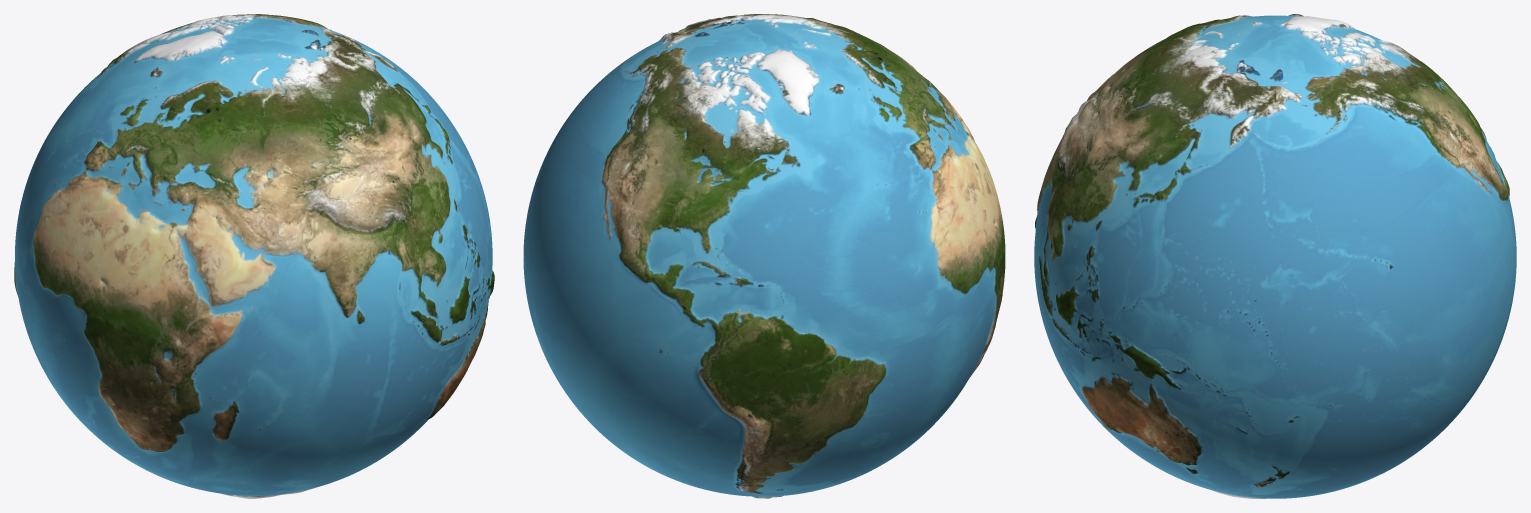
The picture shows the model from 3 angles, left to right: view 1: azimuth 30°, elevation 25°; view 2: azimuth 150°, elevation 25°; view 3: azimuth 270°, elevation 25°; orthographic projection.
Visible parts, largest first — view 1: globe.2_2; view 2: globe.2_2; view 3: globe.2_2.
Part boxes in pixels (box(x1,y1,x2,y2)): globe.2_2: box(14, 14, 494, 498); globe.2_2: box(523, 14, 1005, 498); globe.2_2: box(1034, 14, 1516, 498).
Size of the model in its own units: 0.1998 by 0.2032 by 0.1995.
1 material, 1 textured.
